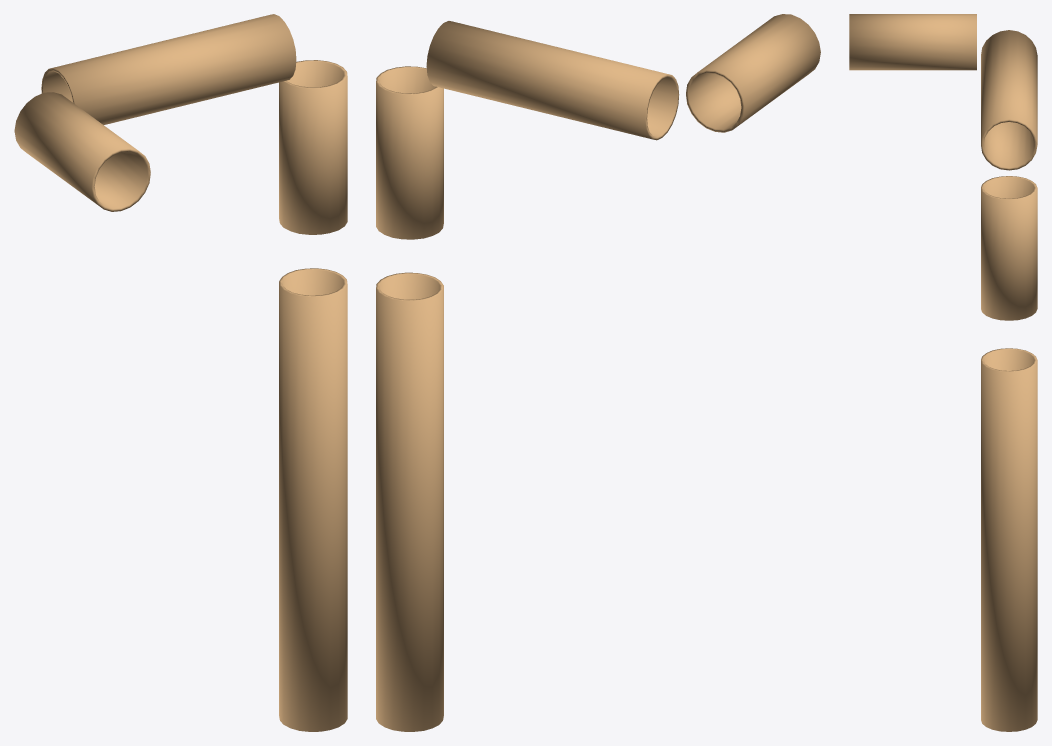
File: slab_pipes_supply__plumbing__8e715674.glb
The picture shows the model from 3 angles, left to right: view 1: azimuth 30°, elevation 25°; view 2: azimuth 150°, elevation 25°; view 3: azimuth 270°, elevation 25°; orthographic projection. The views are drawn at different scales.
Visible parts, largest first — view 1: pipe_supply_manifold_feed__copper.901; view 2: pipe_supply_manifold_feed__copper.901; view 3: pipe_supply_manifold_feed__copper.901.
Boxes of the visible parts, box(x1,y1,x2,y2) form: pipe_supply_manifold_feed__copper.901: box(14, 14, 347, 731); pipe_supply_manifold_feed__copper.901: box(376, 14, 820, 731); pipe_supply_manifold_feed__copper.901: box(849, 14, 1037, 731).
Bounding box in the file's own units: 0.1302 × 0.2538 × 0.0737.
